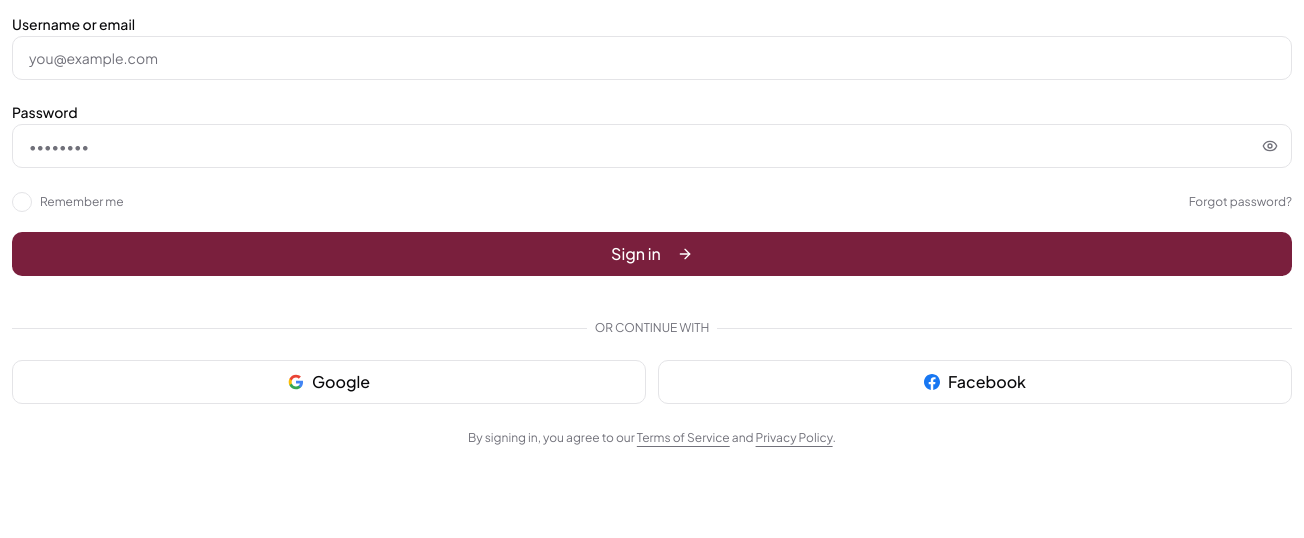
Test: LoginForm (F8.2) › shows a safe server connection error banner on a csrf_handshake_failed response
Type "user@example.com" into the field labelled "Username or email" at (652, 58), box [12, 36, 1292, 80]
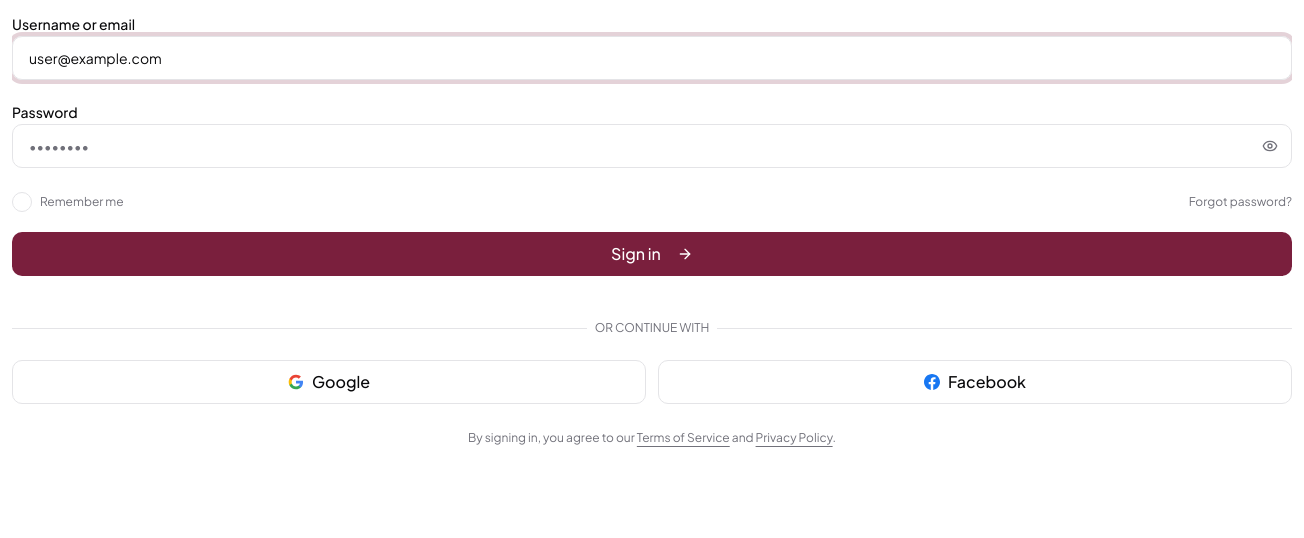
Type "password123" into the password field with placeholder "••••••••" at (652, 146), box [12, 124, 1292, 168]
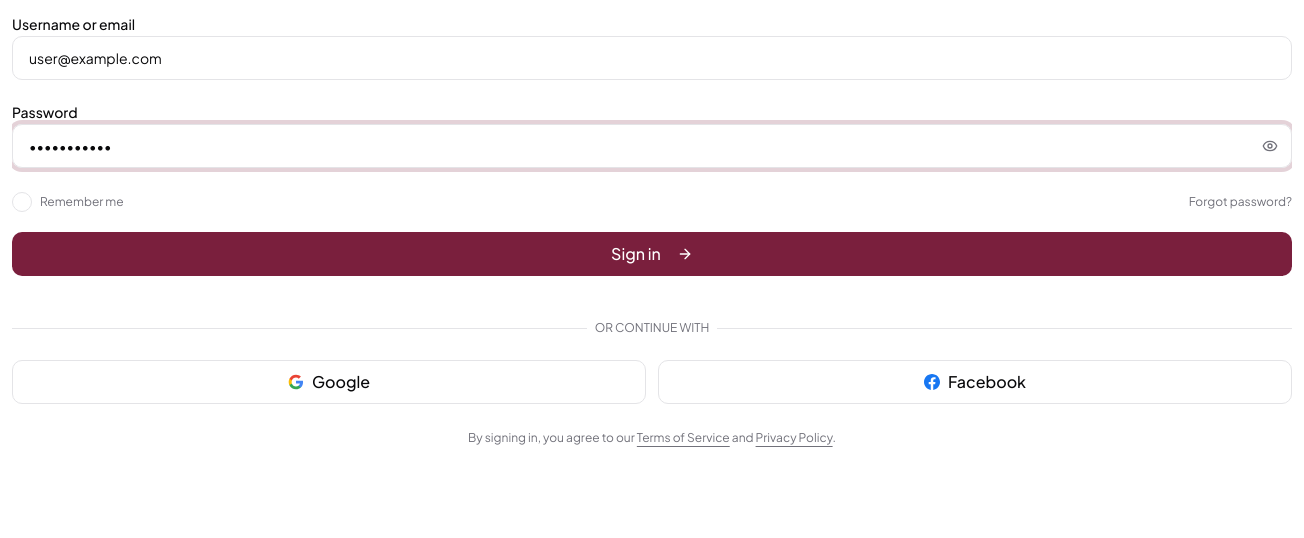
Click the button "Sign in" at (652, 254), box [12, 232, 1292, 276]
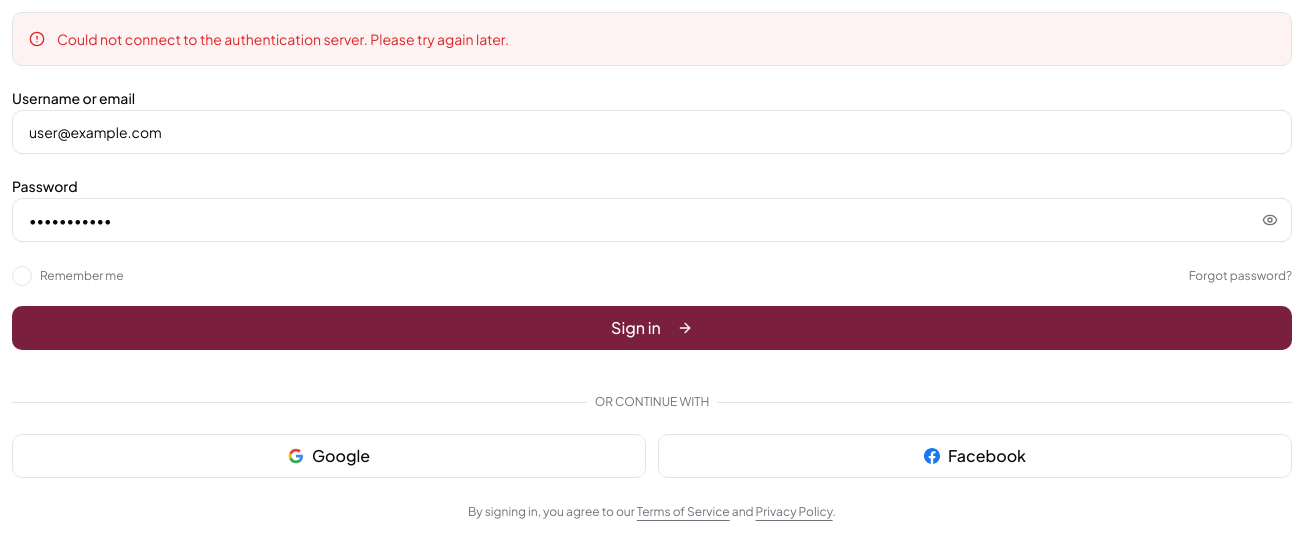
Result: the message "Could not connect to the authentication server. Please try again later." is shown at [12, 12, 1292, 66]
Result: the message shows "Could not connect to the authentication server" at [57, 30, 509, 48]
